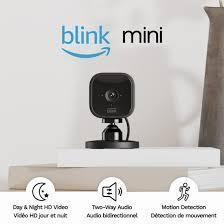tutu: (83, 68, 137, 123)
